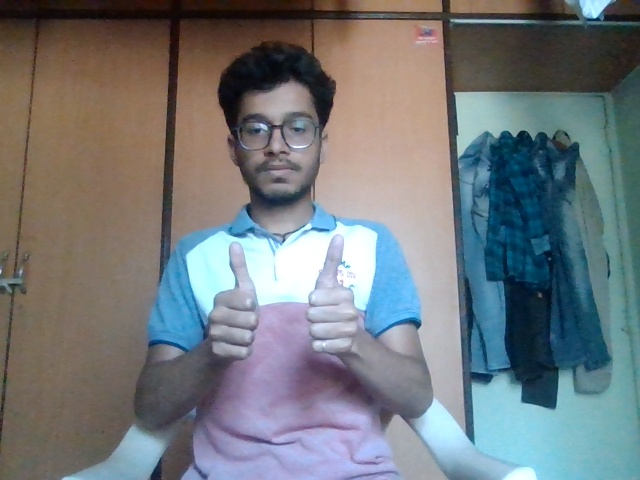thank-you: (208, 225, 366, 372)
